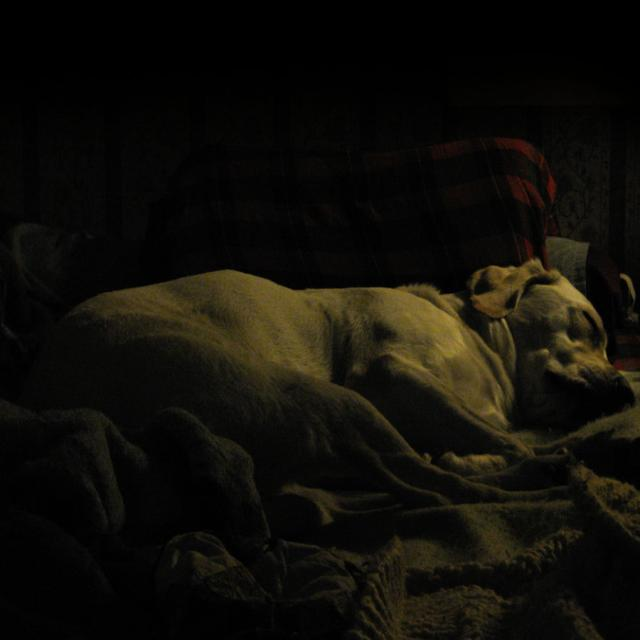dog: (0, 256, 623, 540)
